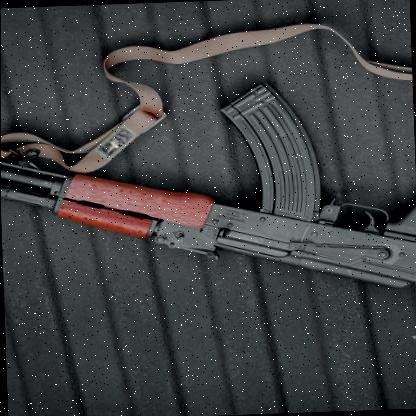rifle: (0, 81, 416, 321)
